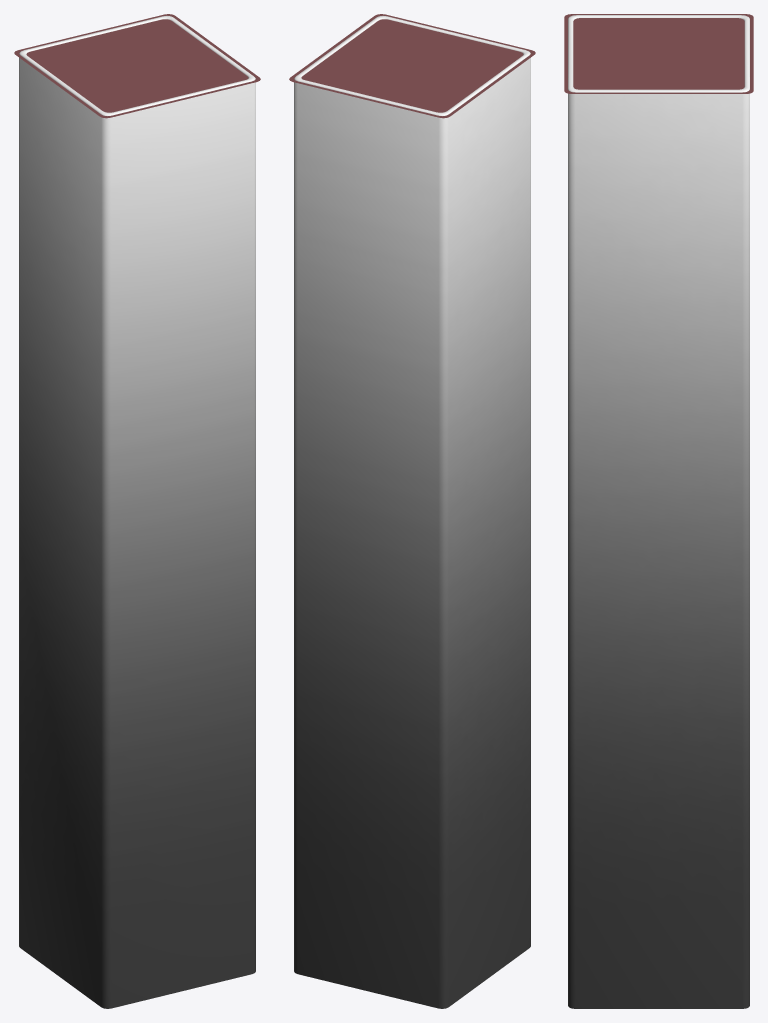
File: Block_3D_square.fbx
The picture shows the model from 3 angles, left to right: view 1: azimuth 30°, elevation 25°; view 2: azimuth 150°, elevation 25°; view 3: azimuth 270°, elevation 25°; orthographic projection. The views are drawn at different scales.
Parts seen in each view (by area): view 1: Block_3D_square, solid, outline; view 2: Block_3D_square, solid, outline; view 3: Block_3D_square, solid, outline.
Boxes of the visible parts, box(x1,y1,x2,y2) form: Block_3D_square: box(19, 16, 255, 1008); solid: box(26, 19, 248, 112); outline: box(14, 14, 260, 118); Block_3D_square: box(294, 16, 530, 1008); solid: box(301, 19, 523, 112); outline: box(289, 14, 535, 118); Block_3D_square: box(568, 15, 749, 1008); solid: box(573, 18, 744, 89); outline: box(564, 14, 753, 93).
Bounding box in the file's own units: 565 × 3014 × 565.
